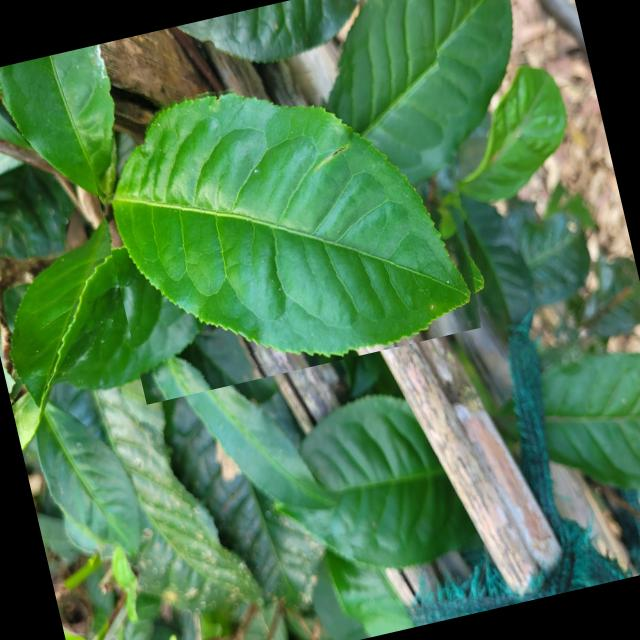Category D(7+ days, Not for Tea): (80, 35, 500, 403)
